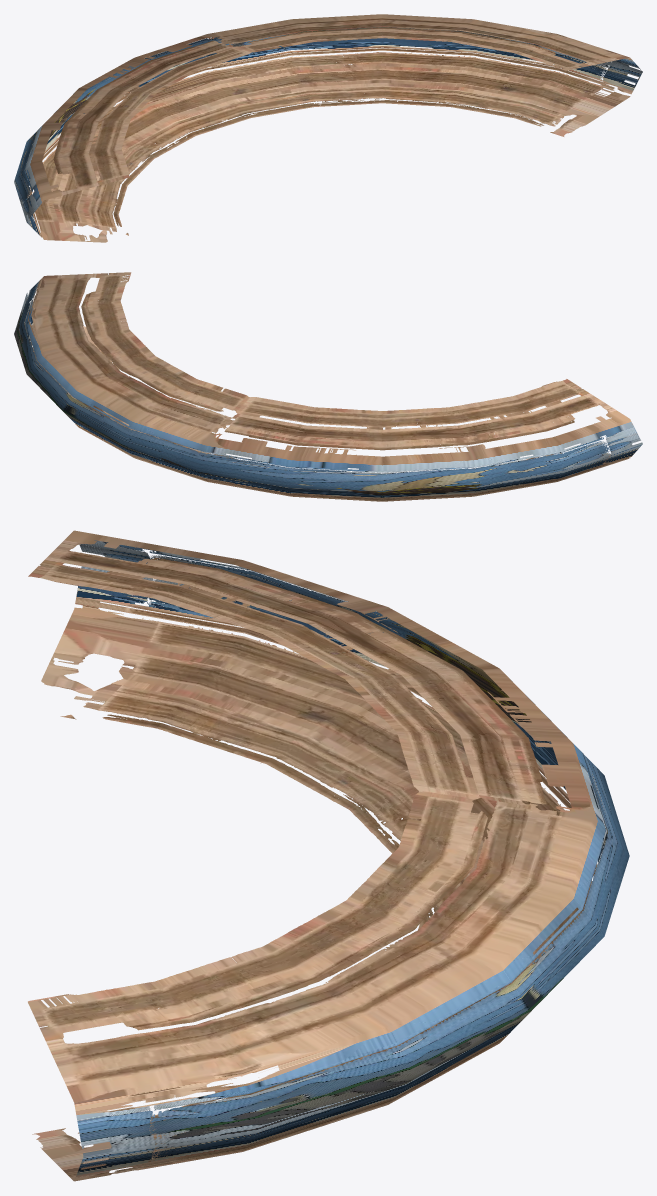
The picture shows the model from 3 angles, top to bottom: view 1: azimuth 30°, elevation 25°; view 2: azimuth 150°, elevation 25°; view 3: azimuth 270°, elevation 25°; orthographic projection. The views are drawn at different scales.
Visible parts, largest first — view 1: SM_AdventurersTapestry_01_LOD0; view 2: SM_AdventurersTapestry_01_LOD0; view 3: SM_AdventurersTapestry_01_LOD0.
Part boxes in pixels (left/top/right/bottom): SM_AdventurersTapestry_01_LOD0: left=14, top=14, right=642, bottom=242; SM_AdventurersTapestry_01_LOD0: left=14, top=272, right=642, bottom=501; SM_AdventurersTapestry_01_LOD0: left=28, top=530, right=629, bottom=1181.
Bounding box in the file's own units: 3.93 × 0.407 × 1.66.
